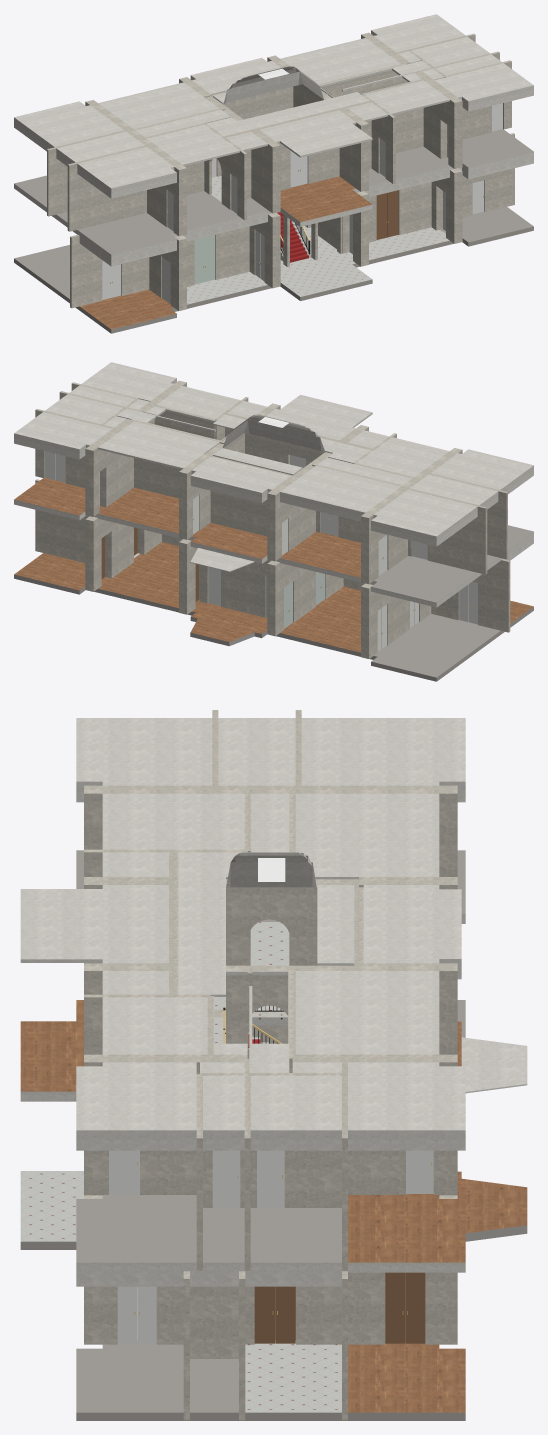
Rendered from coque.glb.
3 renders of one model, top to bottom at view 1: azimuth 30°, elevation 25°; view 2: azimuth 150°, elevation 25°; view 3: azimuth 270°, elevation 25°, orthographic. The views are drawn at different scales.
Visible parts, largest first — view 1: plafond_etage_pavillon_no, plafond_etage_pavillon_so, plafond_chambre_3, mur_etage_pavillon_no_etage_bloc_ouest, sol_bibliotheque, plafond_salle_a_manger, plafond_bibliotheque, plafond_etage_pavillon_ne, sol_vestibule, mur_piece_no_pavillon_so, sol_etage_pavillon_no, sol_piece_no (+54 smaller); view 2: sol_pavillon_so, plafond_etage_pavillon_so, plafond_chambre_3, sol_billard, sol_salon_ouest, sol_etage_pavillon_so, plafond_salle_a_manger, plafond_chambre_1, plafond_chambre_2, plafond_etage_pavillon_no, sol_chambre_3, sol_salle_a_manger (+45 smaller); view 3: plafond_salle_a_manger, plafond_chambre_3, plafond_etage_pavillon_so, plafond_bibliotheque, plafond_etage_pavillon_ne, plafond_chambre_1, plafond_palier, plafond_etage_pavillon_no, sol_etage_pavillon_ne, sol_salon_vert, sol_chambre_1, sol_pavillon_ne (+58 smaller).
Part boxes in pixels (x1,y1,x2,y2): plafond_etage_pavillon_no: (77,146,176,198); plafond_etage_pavillon_so: (14,101,123,151); plafond_chambre_3: (98,82,219,129); mur_etage_pavillon_no_etage_bloc_ouest: (67,145,150,231); sol_bibliotheque: (280,176,372,226); plafond_salle_a_manger: (280,38,401,84); plafond_bibliotheque: (259,110,372,157); plafond_etage_pavillon_ne: (422,63,533,111); sol_vestibule: (280,252,372,300); mur_piece_no_pavillon_so: (70,234,149,308); sol_etage_pavillon_no: (76,213,177,258); sol_piece_no: (79,289,177,333); sol_pavillon_so: (370,613,501,681); plafond_etage_pavillon_so: (371,489,477,546); plafond_chambre_3: (280,465,401,521); sol_billard: (94,542,199,612); sol_salon_ouest: (276,586,360,656); sol_etage_pavillon_so: (370,556,478,606); plafond_salle_a_manger: (98,421,219,469); plafond_chambre_1: (14,412,112,459); plafond_chambre_2: (190,456,290,502); plafond_etage_pavillon_no: (431,449,533,494); sol_chambre_3: (276,532,360,581); sol_salle_a_manger: (94,487,178,537); plafond_salle_a_manger: (295,971,439,1054); plafond_chambre_3: (295,793,439,879); plafond_etage_pavillon_so: (301,718,465,802); plafond_bibliotheque: (20,885,168,963); plafond_etage_pavillon_ne: (76,1062,244,1150); plafond_chambre_1: (348,1062,465,1150); plafond_palier: (178,852,354,996); plafond_etage_pavillon_no: (76,718,212,802); sol_etage_pavillon_ne: (76,1191,199,1271); sol_salon_vert: (345,1341,465,1420); sol_chambre_1: (345,1194,465,1271); sol_pavillon_ne: (76,1341,186,1420).
Size of the model in its own units: 32.8 by 12.32 by 16.4.
13 materials, 5 textured.
